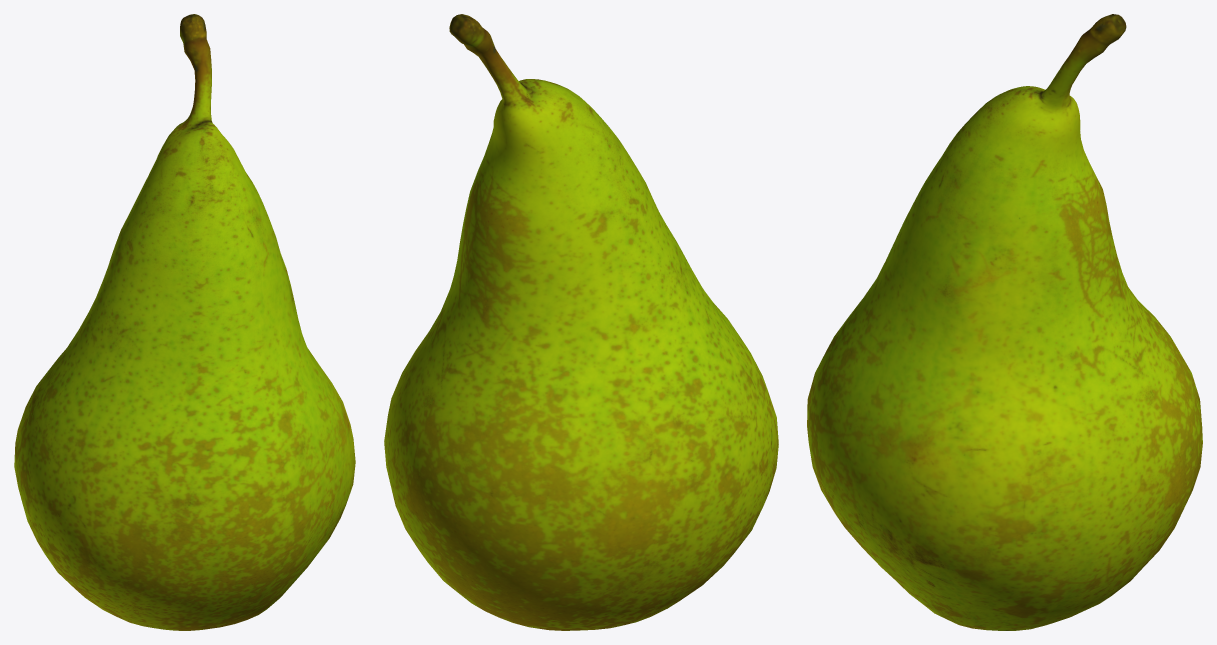
File: pear.obj
3 views of the same model, side by side, from view 1: azimuth 30°, elevation 25°; view 2: azimuth 150°, elevation 25°; view 3: azimuth 270°, elevation 25° (orthographic). The views are drawn at different scales.
Parts seen in each view (by area): view 1: pear; view 2: pear; view 3: pear.
Boxes of the visible parts, x1,y1,x2,y2 form: pear: (14, 14, 355, 630); pear: (384, 14, 778, 630); pear: (807, 14, 1202, 630).
Bounding box in the file's own units: 1.49 × 2.62 × 1.52.
